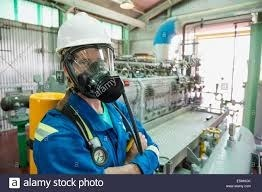helmet: (54, 9, 121, 57)
person with partial safety: (29, 9, 162, 174)
